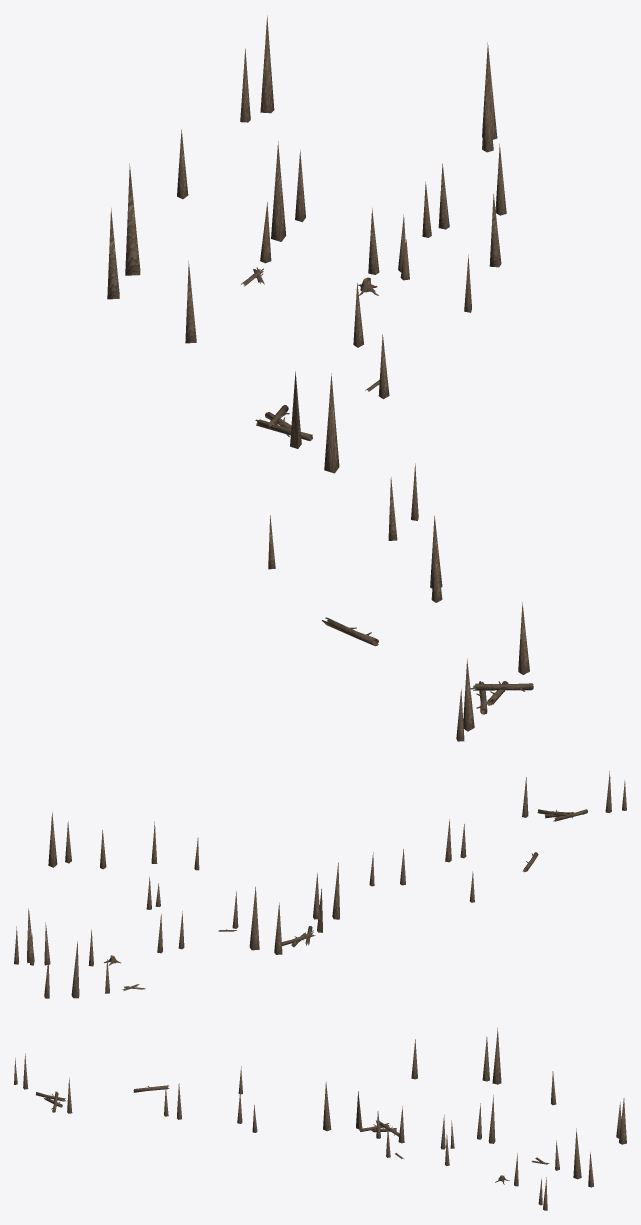
File: wujian36_1.fbx
3 views of the same model, one above another, from view 1: azimuth 30°, elevation 25°; view 2: azimuth 150°, elevation 25°; view 3: azimuth 270°, elevation 25° (orthographic). The views are drawn at different scales.
Parts seen in each view (by area): view 1: wujian36_1; view 2: wujian36_1; view 3: wujian36_1.
Part boxes in pixels (x1,y1,x2,y2): wujian36_1: [107, 15, 533, 741]; wujian36_1: [14, 771, 626, 998]; wujian36_1: [14, 1027, 626, 1210].
Bounding box in the file's own units: 4641 × 1952 × 9451.
